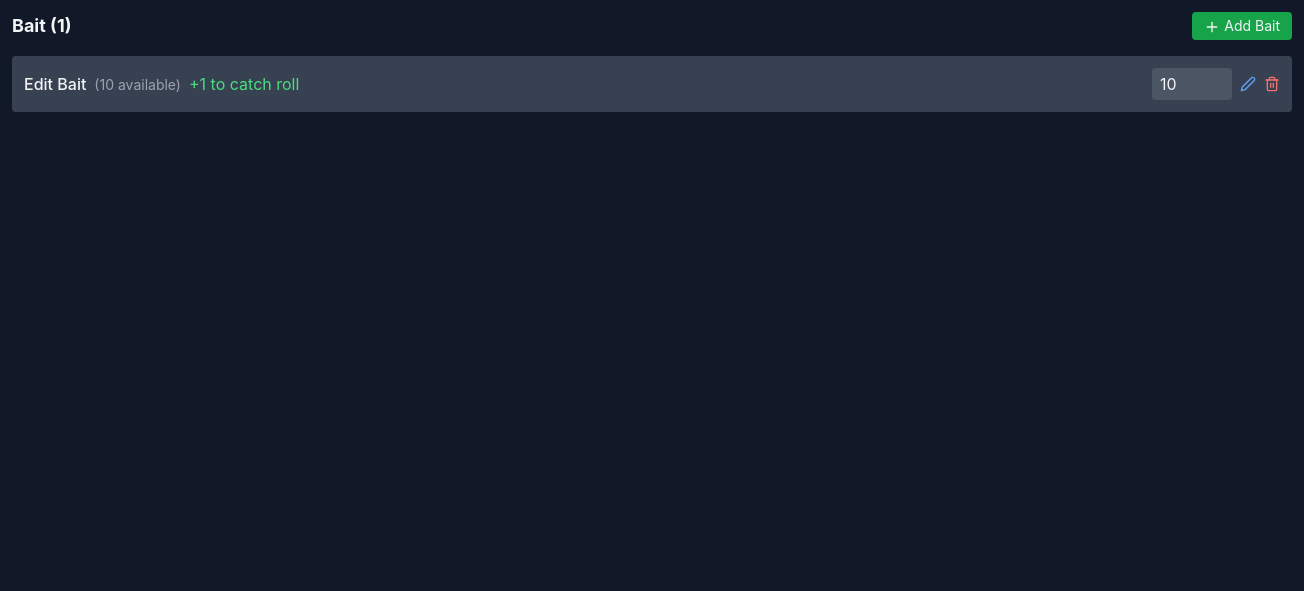
Test: BaitView › enters edit mode when edit button is clicked
Click the 2nd button.
click(1248, 84)  # box x1=1240 y1=76 x2=1256 y2=92
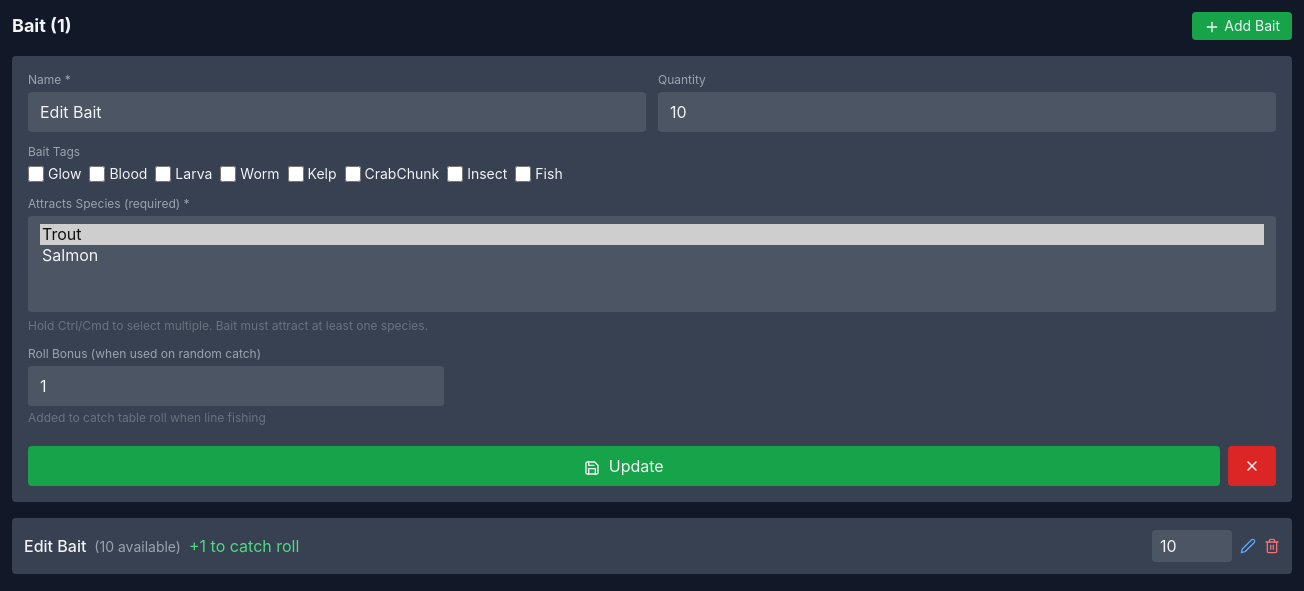
Now the button "Update" is shown, box x1=28 y1=446 x2=1220 y2=486
Now the field showing "Edit Bait" is shown, box x1=28 y1=92 x2=646 y2=132
